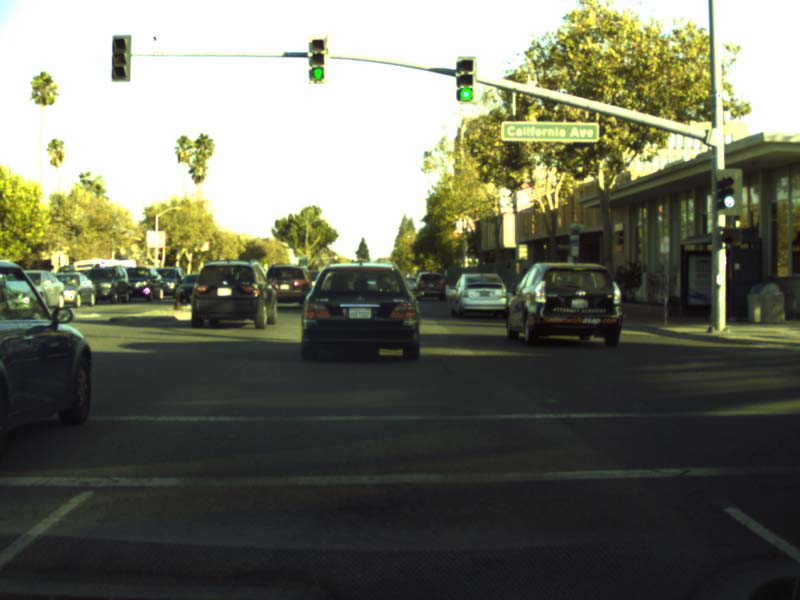Green: (717, 170, 741, 207), (456, 56, 474, 102), (308, 37, 325, 81)
